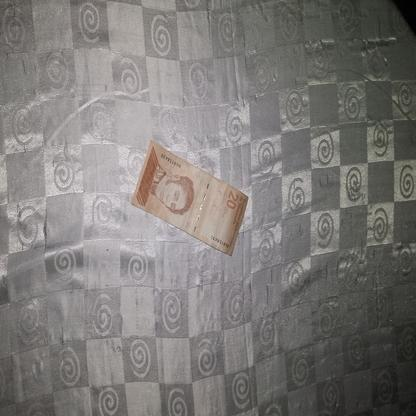twenty-front-vef: (131, 139, 249, 256)
